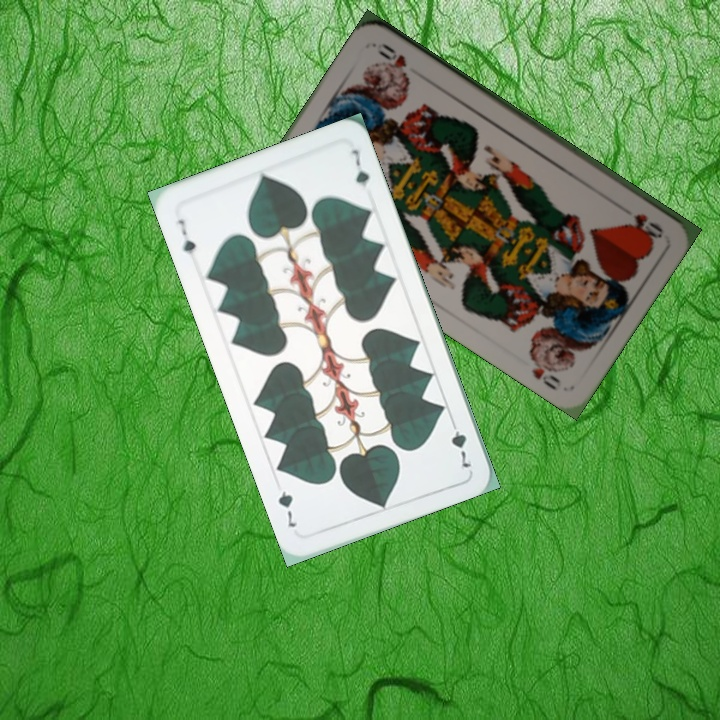G7: (446, 414, 474, 472), (173, 215, 199, 257)
HO: (630, 209, 666, 241)
